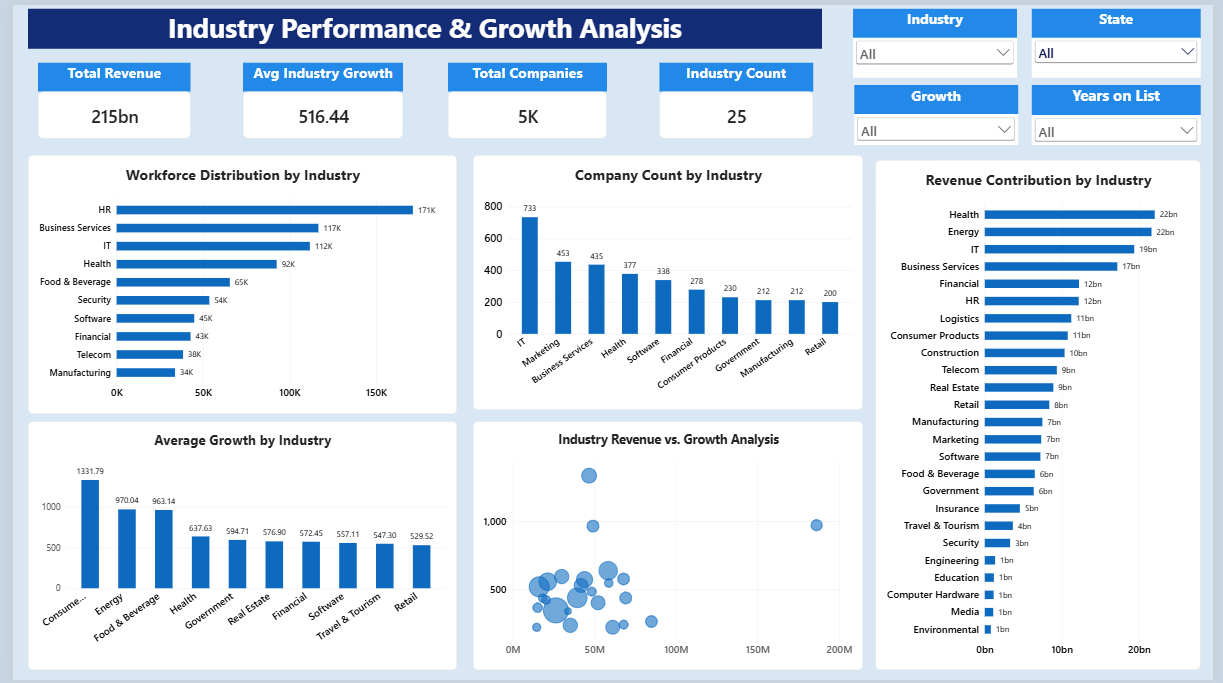

The dashboard page shown, as its layout file describes it:
{"tool":"powerbi","page":{"name":"Industry Analysis","canvas":[1920,1080],"ordinal":1},"visuals":[{"type":"cardVisual","title":"Industry Count","fields":{"Data":["INC5000_Cleaned_Dataset.Total Industries"]},"box":[1034,92,246,122],"z":0},{"type":"cardVisual","title":"Total Revenue","fields":{"Data":["INC5000_Cleaned_Dataset.Total Revenue"]},"box":[40,92,244,122],"z":1000},{"type":"cardVisual","title":"Avg Industry Growth","fields":{"Data":["INC5000_Cleaned_Dataset.Average Industry Growth"]},"box":[368,92,256,122],"z":2000},{"type":"cardVisual","title":"Total Companies","fields":{"Data":["INC5000_Cleaned_Dataset.Total Companies"]},"box":[696,92,254,122],"z":3000},{"type":"clusteredColumnChart","title":"Company Count by Industry","fields":{"Category":["INC5000_Cleaned_Dataset.industry - sort"],"Y":["INC5000_Cleaned_Dataset.Total Companies"]},"box":[736,240,624,408],"z":4000},{"type":"columnChart","title":"Average Growth by Industry","fields":{"Category":["INC5000_Cleaned_Dataset.industry - sort"],"Y":["INC5000_Cleaned_Dataset.Average Growth"]},"box":[24,666,686,398],"z":5000},{"type":"scatterChart","title":"Industry Revenue vs. Growth Analysis","fields":{"Category":["INC5000_Cleaned_Dataset.industry - sort"],"Size":["INC5000_Cleaned_Dataset.Total Companies"],"X":["INC5000_Cleaned_Dataset.Average Industry Revenue"],"Y":["INC5000_Cleaned_Dataset.Average Industry Growth"]},"box":[736,666,624,398],"z":7000},{"type":"barChart","title":"Revenue Contribution by Industry","fields":{"Category":["INC5000_Cleaned_Dataset.industry - sort"],"Y":["INC5000_Cleaned_Dataset.Total Revenue"]},"box":[1380,248,520,816],"z":8000},{"type":"barChart","title":"Workforce Distribution by Industry","fields":{"Category":["INC5000_Cleaned_Dataset.industry - sort"],"Y":["INC5000_Cleaned_Dataset.Total Industry Workforce"]},"box":[24,240,686,414],"z":9000},{"type":"textbox","title":"Industry Performance & Growth Analysis","box":[24,6,1270,64],"z":10000},{"type":"slicer","title":"Industry","fields":{"Values":["INC5000_Cleaned_Dataset.industry"]},"box":[1344,6,262,110],"z":11000},{"type":"slicer","title":"State","fields":{"Values":["INC5000_Cleaned_Dataset.state_l"]},"box":[1630,6,270,110],"z":12000},{"type":"slicer","title":"Growth","fields":{"Values":["INC5000_Cleaned_Dataset.growth"]},"box":[1346,128,262,96],"z":13000},{"type":"slicer","title":"Years on List","fields":{"Values":["INC5000_Cleaned_Dataset.yrs_on_list"]},"box":[1630,128,270,96],"z":14000}]}

Visuals, with their boxes in screenshot pixels (x1, y1, x2, y2), scaled from the page's 1920x1080 canvas onto the 1223x683 screenshot:
"Industry Count" cardVisual: 659,58,815,135
"Total Revenue" cardVisual: 25,58,181,135
"Avg Industry Growth" cardVisual: 234,58,397,135
"Total Companies" cardVisual: 443,58,605,135
"Company Count by Industry" clusteredColumnChart: 469,152,866,410
"Average Growth by Industry" columnChart: 15,421,452,673
"Industry Revenue vs. Growth Analysis" scatterChart: 469,421,866,673
"Revenue Contribution by Industry" barChart: 879,157,1210,673
"Workforce Distribution by Industry" barChart: 15,152,452,414
"Industry Performance & Growth Analysis" textbox: 15,4,824,44
"Industry" slicer: 856,4,1023,73
"State" slicer: 1038,4,1210,73
"Growth" slicer: 857,81,1024,142
"Years on List" slicer: 1038,81,1210,142
